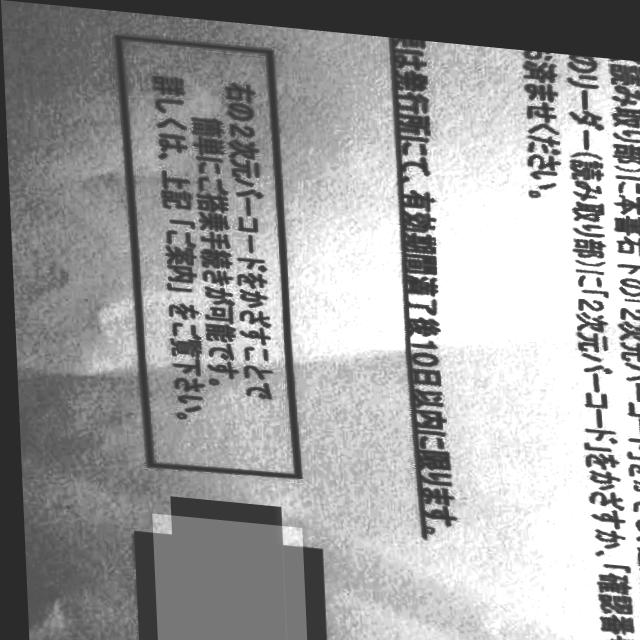qr_code: (146, 511, 301, 640)
